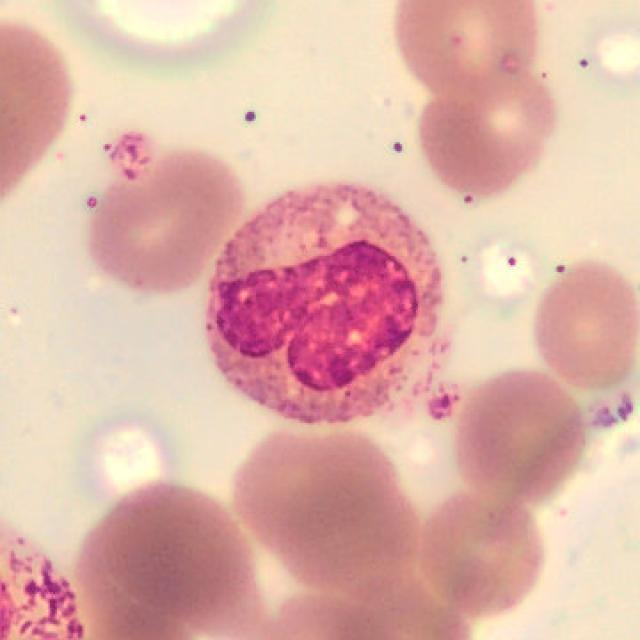Bastonete: (206, 183, 452, 425)
